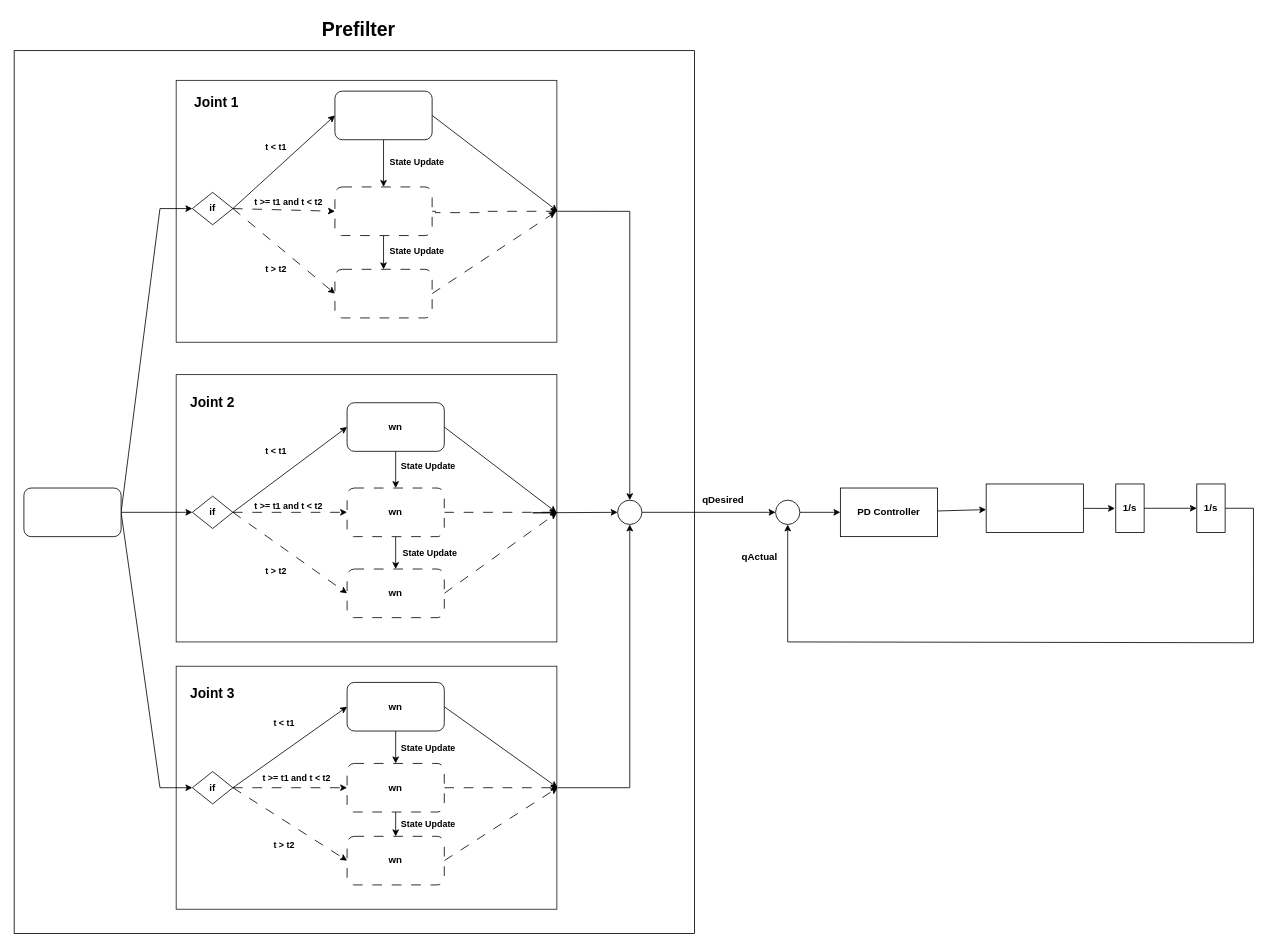
The diagram is 1274 pixels wide and 948 high, and some of its shapes have lost their labels. Each missing label, with the box of its shape:
Final point: (23, 487, 121, 537)
Plant: (985, 483, 1083, 533)
wn1: (334, 90, 432, 140)
wn2: (334, 186, 432, 236)
wn3: (334, 269, 432, 318)
